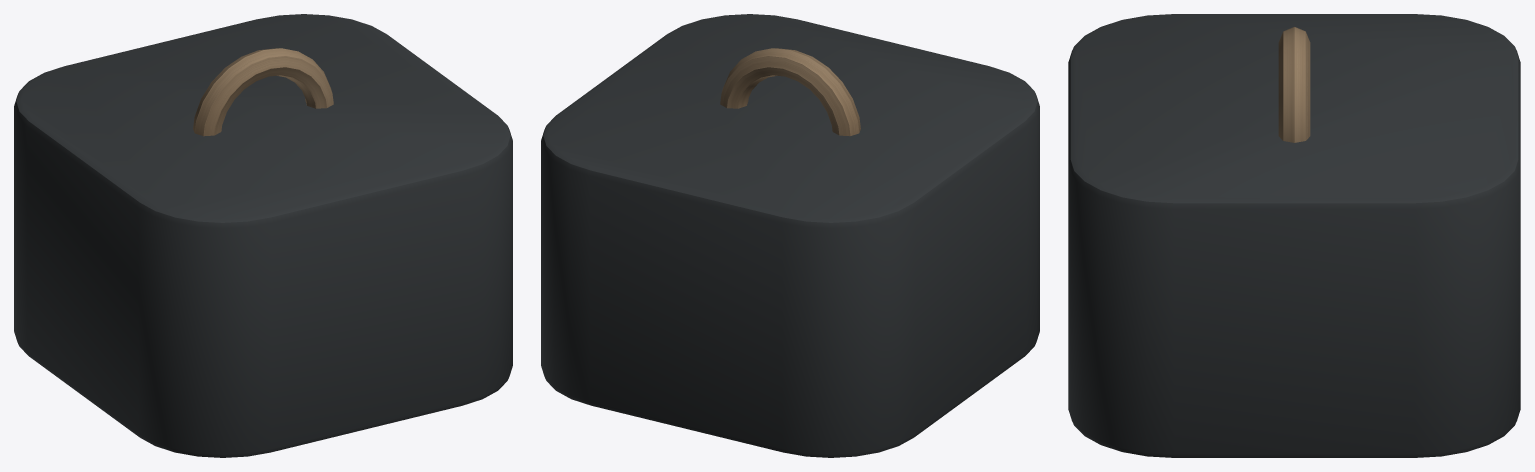
Rendered from range_basket_premium.glb.
3 views of the same model, side by side, from view 1: azimuth 30°, elevation 25°; view 2: azimuth 150°, elevation 25°; view 3: azimuth 270°, elevation 25° (orthographic). The views are drawn at different scales.
Visible parts, largest first — view 1: RangeBasket_MoldedShell, RangeBasket_Handle; view 2: RangeBasket_MoldedShell, RangeBasket_Handle; view 3: RangeBasket_MoldedShell, RangeBasket_Handle.
Boxes of the visible parts, x1,y1,x2,y2 form: RangeBasket_MoldedShell: (14,14,512,457); RangeBasket_Handle: (193,48,333,136); RangeBasket_MoldedShell: (541,14,1039,457); RangeBasket_Handle: (720,48,860,136); RangeBasket_MoldedShell: (1068,14,1520,457); RangeBasket_Handle: (1278,27,1310,142).
Size of what is drawn, in the model's own units: 0.342 by 0.276 by 0.342.
Materials: 2 (1 with a texture image).
